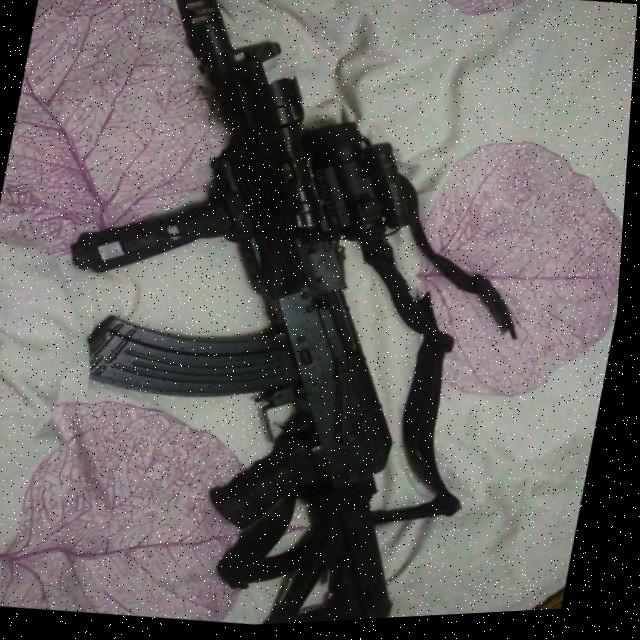firearm: (7, 0, 513, 638)
